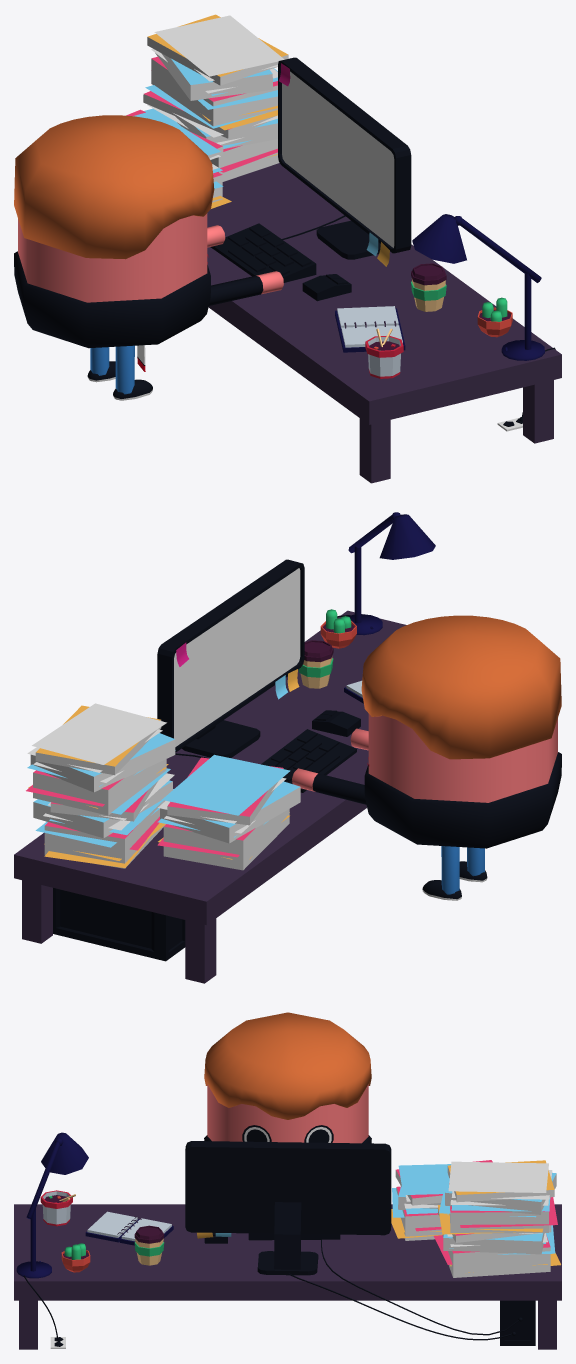
The model's file is DevRecruiter.fbx.
3 views of the same model, one above another, from view 1: azimuth 30°, elevation 25°; view 2: azimuth 150°, elevation 25°; view 3: azimuth 270°, elevation 25° (orthographic). The views are drawn at different scales.
Visible parts, largest first — view 1: DevRecruiter; view 2: DevRecruiter; view 3: DevRecruiter.
Boxes of the visible parts, x1,y1,x2,y2 form: DevRecruiter: (14,14,561,483); DevRecruiter: (14,512,561,983); DevRecruiter: (14,1012,561,1349).
Size of the model in its own units: 397 by 250 by 600.
